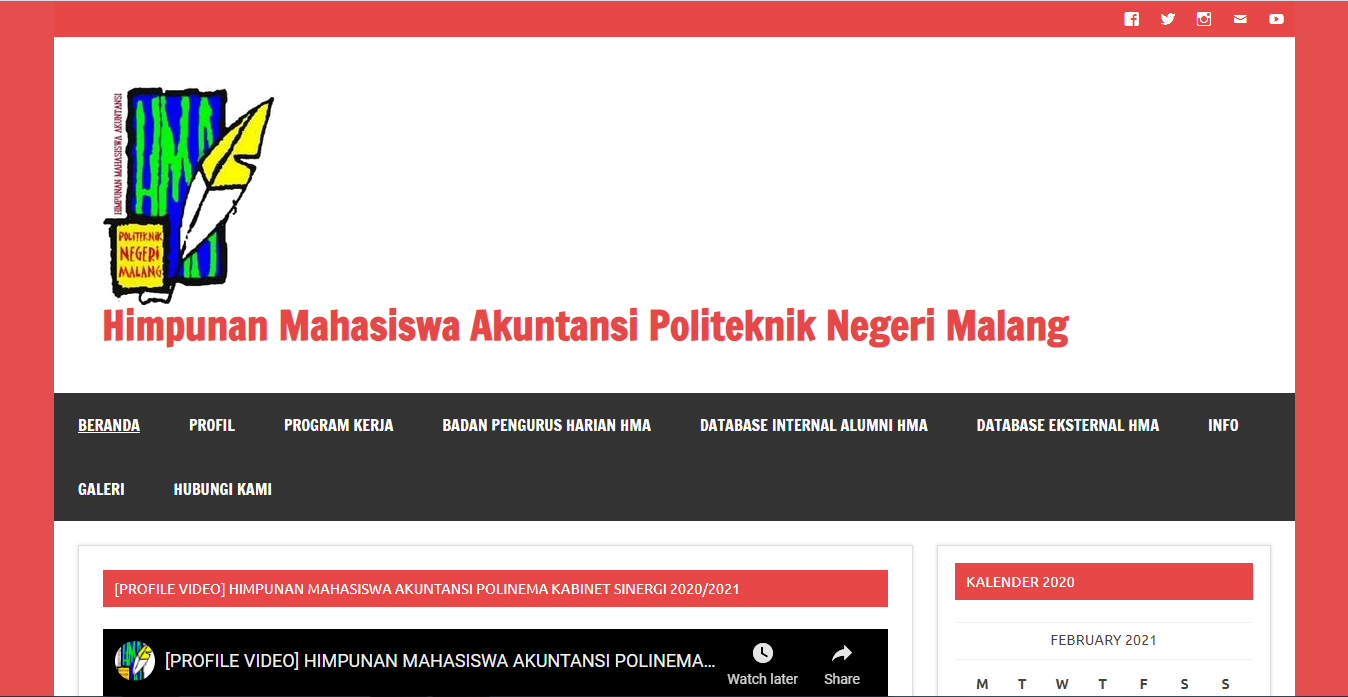Image: (89, 52, 268, 305)
Menu Bar: (52, 392, 1261, 448), (58, 456, 282, 519)
Nav Bar: (1151, 5, 1181, 33), (1264, 5, 1291, 33), (1189, 6, 1217, 32), (1116, 7, 1145, 32), (1226, 6, 1253, 31)
Side Bar: (934, 533, 1278, 697)
